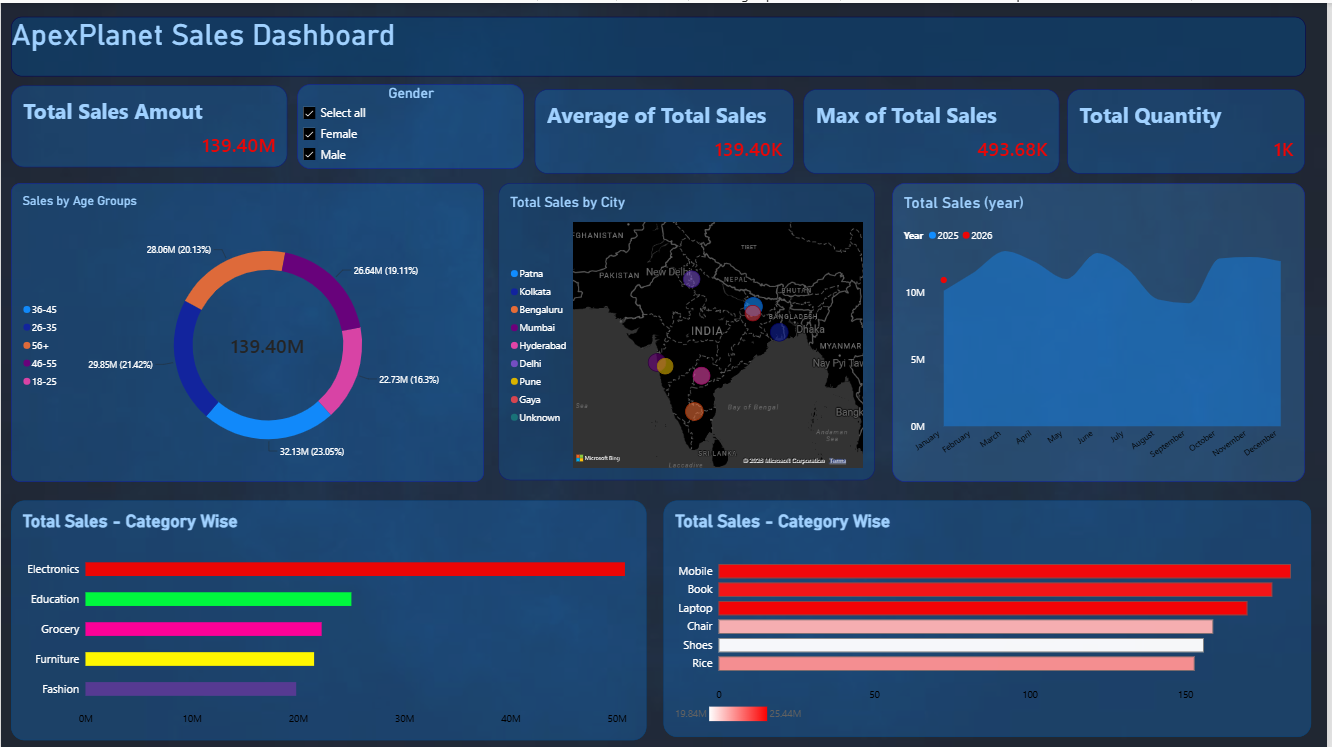

This screenshot's page, from the dashboard's own definition file:
{"tool":"powerbi","page":{"name":"Page 1","canvas":[1920,1080],"ordinal":0},"visuals":[{"type":"clusteredBarChart","title":"Total Sales - Category Wise","fields":{"Category":["Dim_Product.Category"],"Y":["Sum(Fact_Sales.Total_Sales)"]},"box":[15,720,920,347.5],"z":0},{"type":"clusteredBarChart","title":"Total Sales - Category Wise","fields":{"Category":["Dim_Product.Product"],"Y":["CountNonNull(Fact_Sales.Quantity)"]},"box":[960,720,937.5,342.5],"z":1000},{"type":"stackedAreaChart","title":"Total Sales (year)","fields":{"Y":["Sum(Fact_Sales.Total_Sales)"],"Category":["Dim_Date.Date.Variation.Date Hierarchy.Month"],"Series":["Dim_Date.Date.Variation.Date Hierarchy.Year"]},"box":[1290,260,597.5,432.5],"z":2000},{"type":"donutChart","title":"Sales by Age Groups","fields":{"Category":["Dim_Customers.Age_Group"],"Y":["Sum(Fact_Sales.Total_Sales)"]},"box":[15,260,685,432.5],"z":3000},{"type":"slicer","title":"Gender ","fields":{"Values":["Dim_Customers.Gender"]},"box":[428,118,328,122],"z":4000},{"type":"map","title":"Total Sales by City","fields":{"Category":["Dim_Location.City"],"Size":["Sum(Fact_Sales.Total_Sales)"],"Series":["Dim_Location.City"]},"box":[720,260,545,430],"z":5000},{"type":"cardVisual","title":"total","fields":{"Data":["CountNonNull(Fact_Sales.Quantity)"]},"box":[1544,124,344,122],"z":6000},{"type":"shape","title":"ApexPlanet Sales Dashboard","box":[14,20,1874,86],"z":7000},{"type":"cardVisual","title":"total","fields":{"Data":["Sum(Fact_Sales.Total_Sales)"]},"box":[14,120,400,118],"z":8000},{"type":"cardVisual","title":"total","fields":{"Data":["Avg(Fact_Sales.Total_Sales)"]},"box":[772,124,375,122.5],"z":9000},{"type":"cardVisual","title":"total","fields":{"Data":["Max(Fact_Sales.Total_Sales)"]},"box":[1162,124,370,122],"z":10000}]}

Visuals, with their boxes in screenshot pixels (x1, y1, x2, y2), scaled from the page's 1920x1080 canvas onto the 1332x747 screenshot:
"Total Sales - Category Wise" clusteredBarChart: Rect(10, 498, 649, 738)
"Total Sales - Category Wise" clusteredBarChart: Rect(666, 498, 1316, 735)
"Total Sales (year)" stackedAreaChart: Rect(895, 180, 1309, 479)
"Sales by Age Groups" donutChart: Rect(10, 180, 486, 479)
"Gender " slicer: Rect(297, 82, 524, 166)
"Total Sales by City" map: Rect(500, 180, 878, 477)
"total" cardVisual: Rect(1071, 86, 1310, 170)
"ApexPlanet Sales Dashboard" shape: Rect(10, 14, 1310, 73)
"total" cardVisual: Rect(10, 83, 287, 165)
"total" cardVisual: Rect(536, 86, 796, 170)
"total" cardVisual: Rect(806, 86, 1063, 170)
